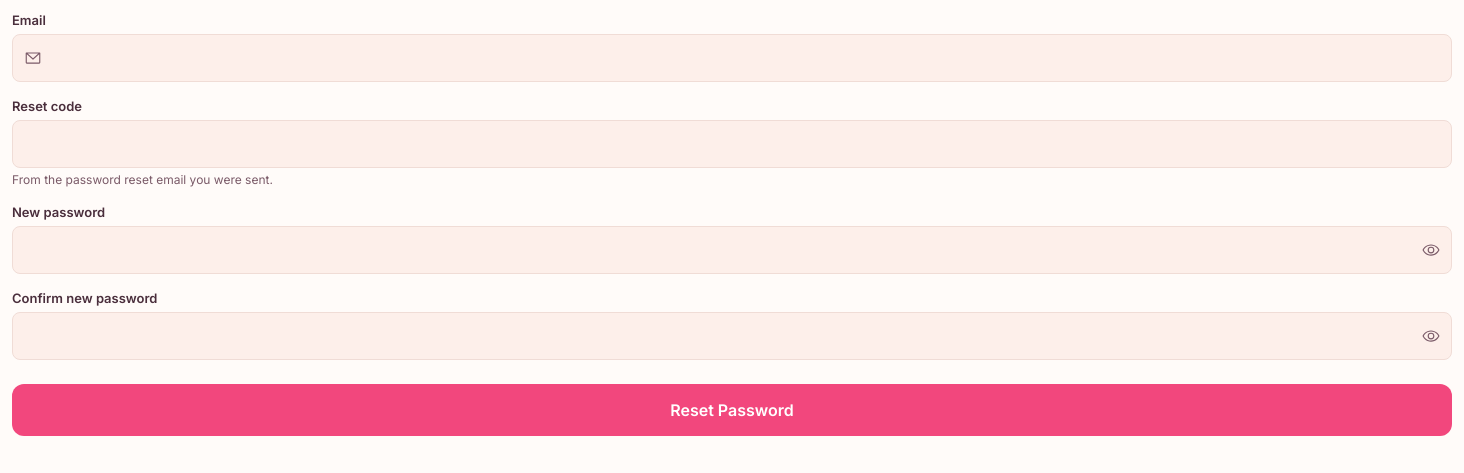
Test: ResetPasswordForm › rejects mismatched passwords once both are 8+ characters
This screenshot has width=1464, height=473.
In the field labelled "Email": (732, 58) [12,34,1452,82], type "citizen@example.com"
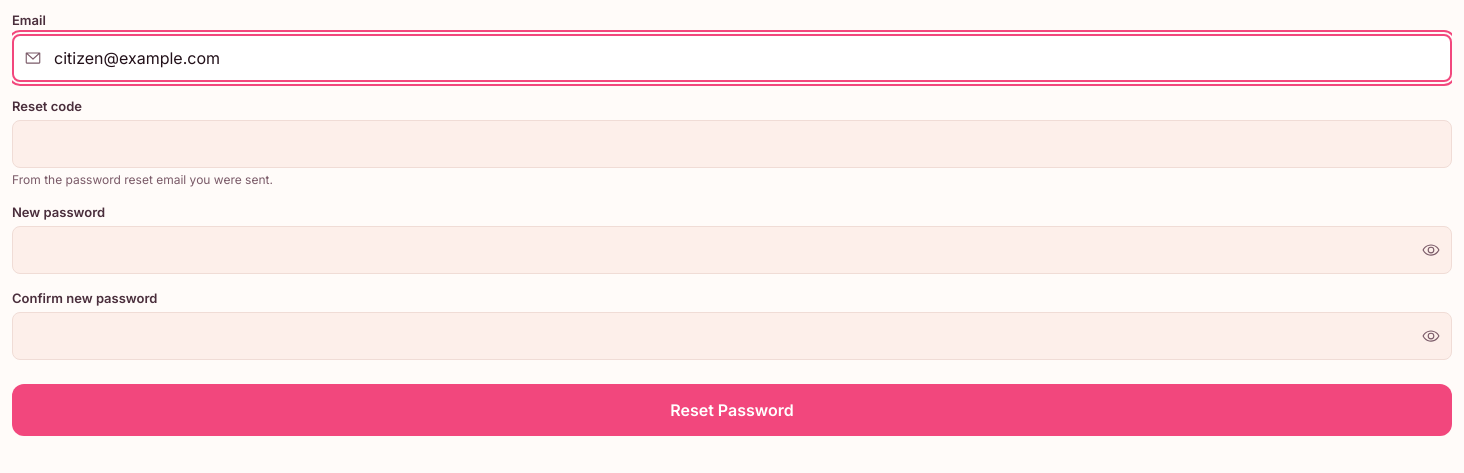
In the field labelled "Reset code": (732, 144) [12,120,1452,168], type "123456"
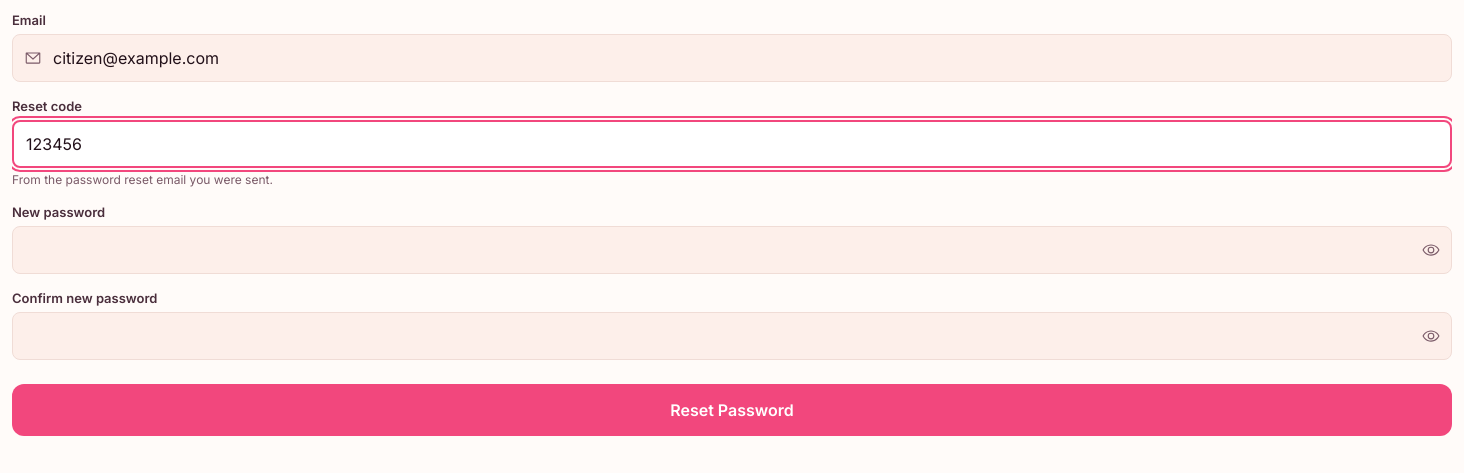
In the password field labelled "New password": (732, 250) [12,226,1452,274], type "correct-password"
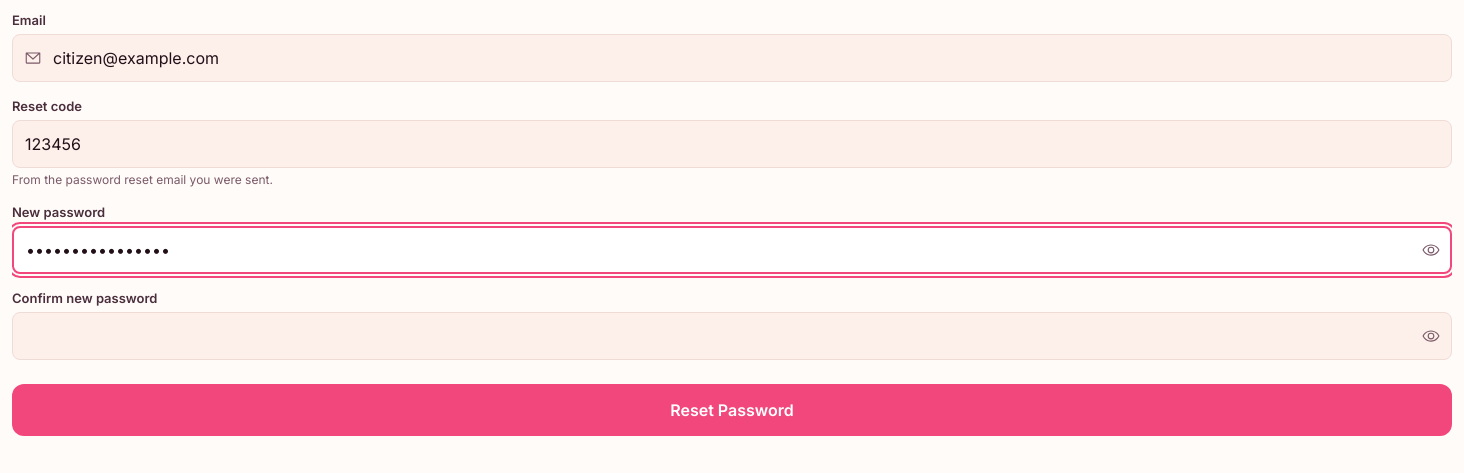
In the password field labelled "Confirm new password": (732, 336) [12,312,1452,360], type "different-password"
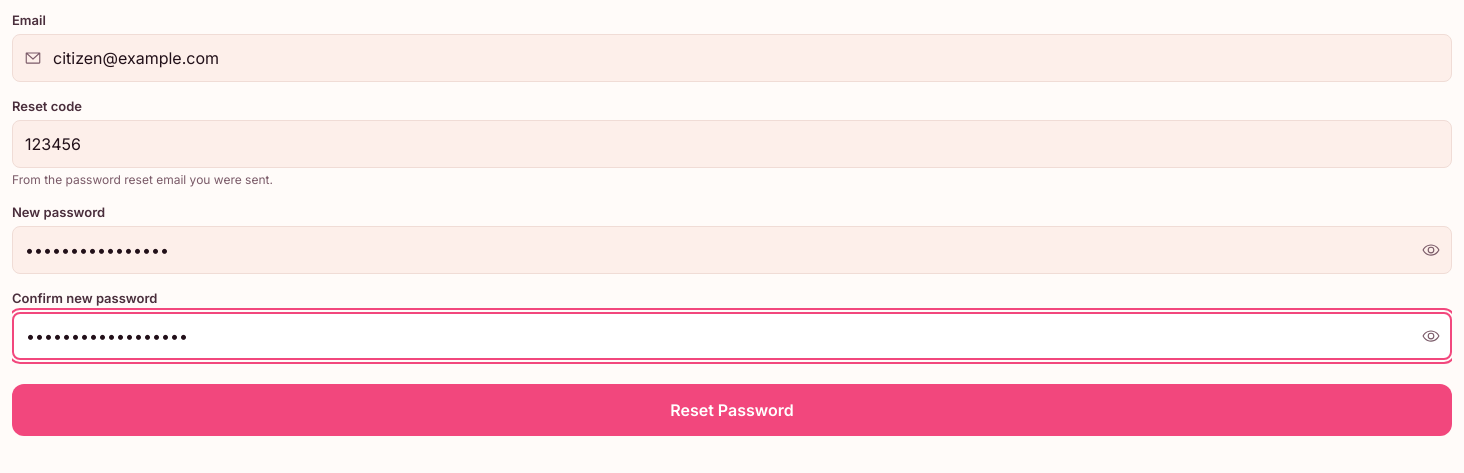
Click the button named "Reset Password": (732, 410) [12,384,1452,436]
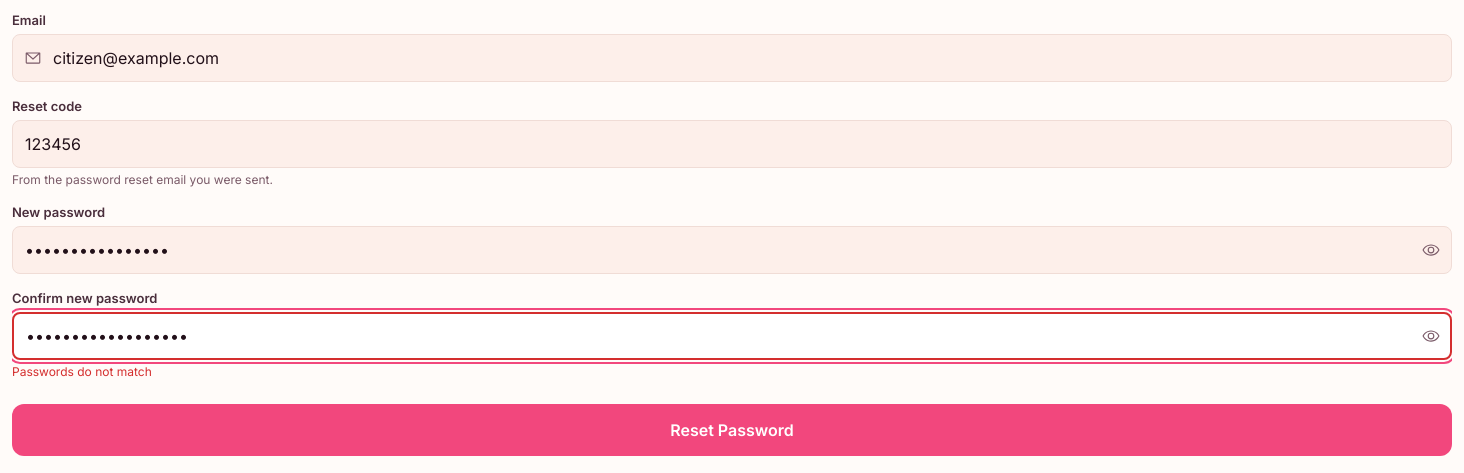
Expected: the text "Passwords do not match" is shown, [12,364,152,379]
